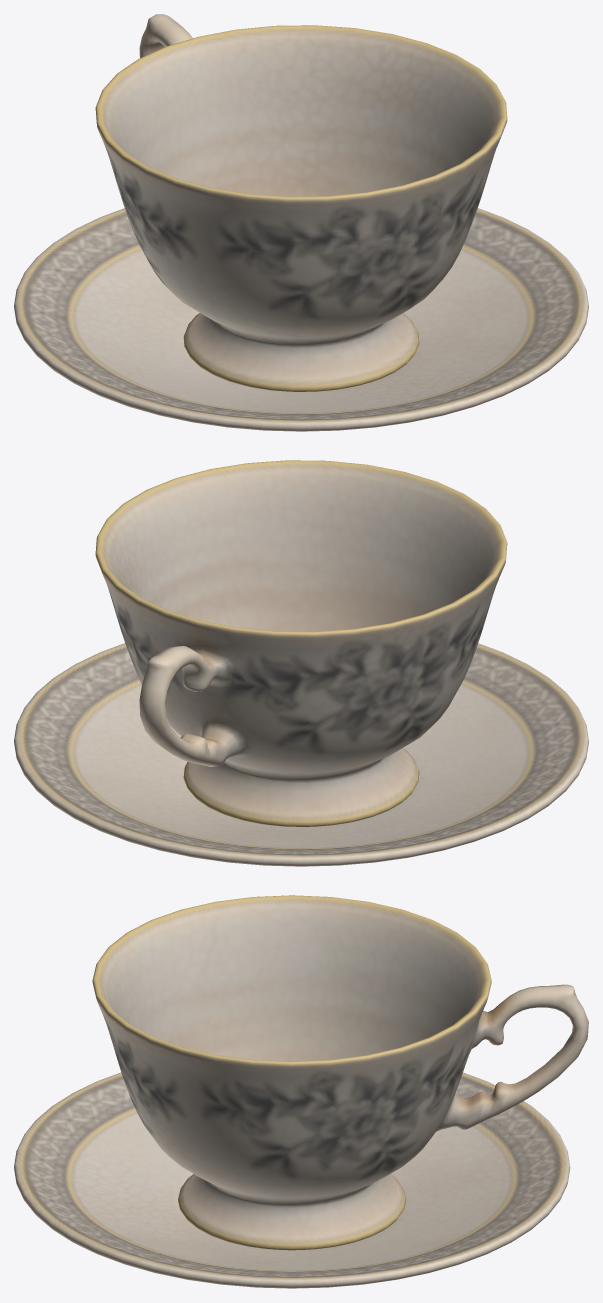
Rendered from teatime.glb.
3 views of the same model, one above another, from view 1: azimuth 30°, elevation 25°; view 2: azimuth 150°, elevation 25°; view 3: azimuth 270°, elevation 25° (orthographic). The views are drawn at different scales.
Size of the model in its own units: 0.149 by 0.0704 by 0.154.
Materials: 2 (2 with a texture image).
